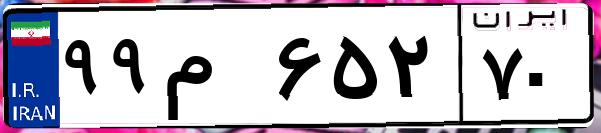0: (525, 38, 570, 115)
2: (385, 28, 445, 110)
5: (330, 28, 385, 110)
6: (270, 28, 330, 110)
7: (475, 38, 525, 113)
9: (57, 26, 110, 100), (110, 28, 158, 98)
م: (158, 20, 270, 120)
